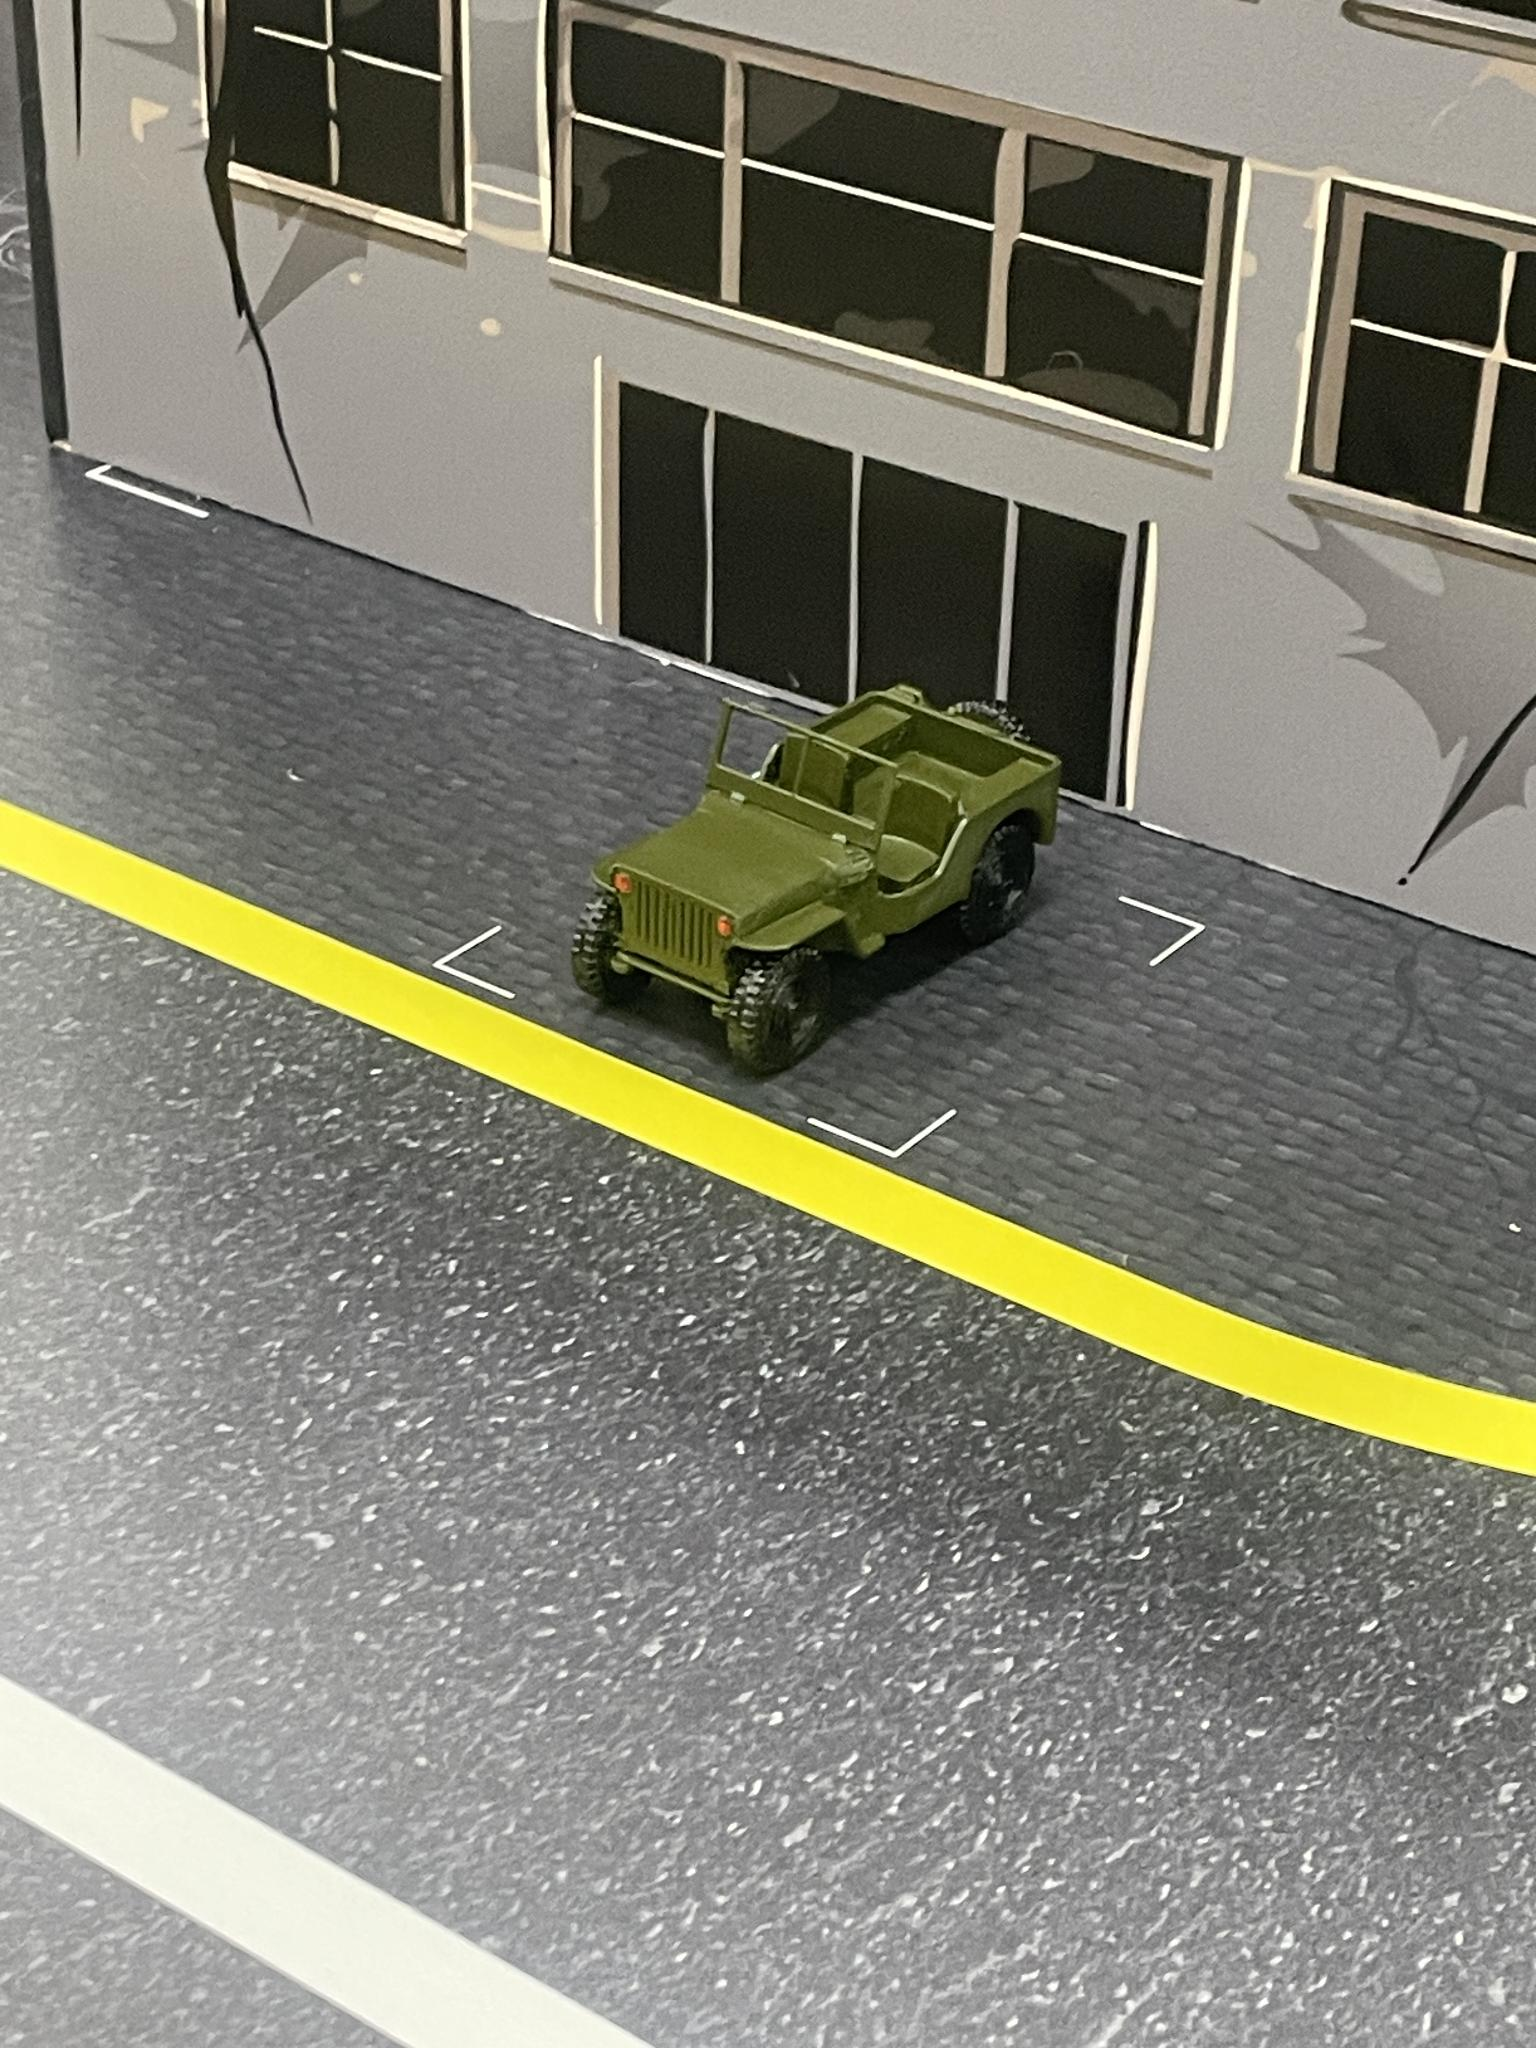Car: (558, 677, 1076, 1082)
